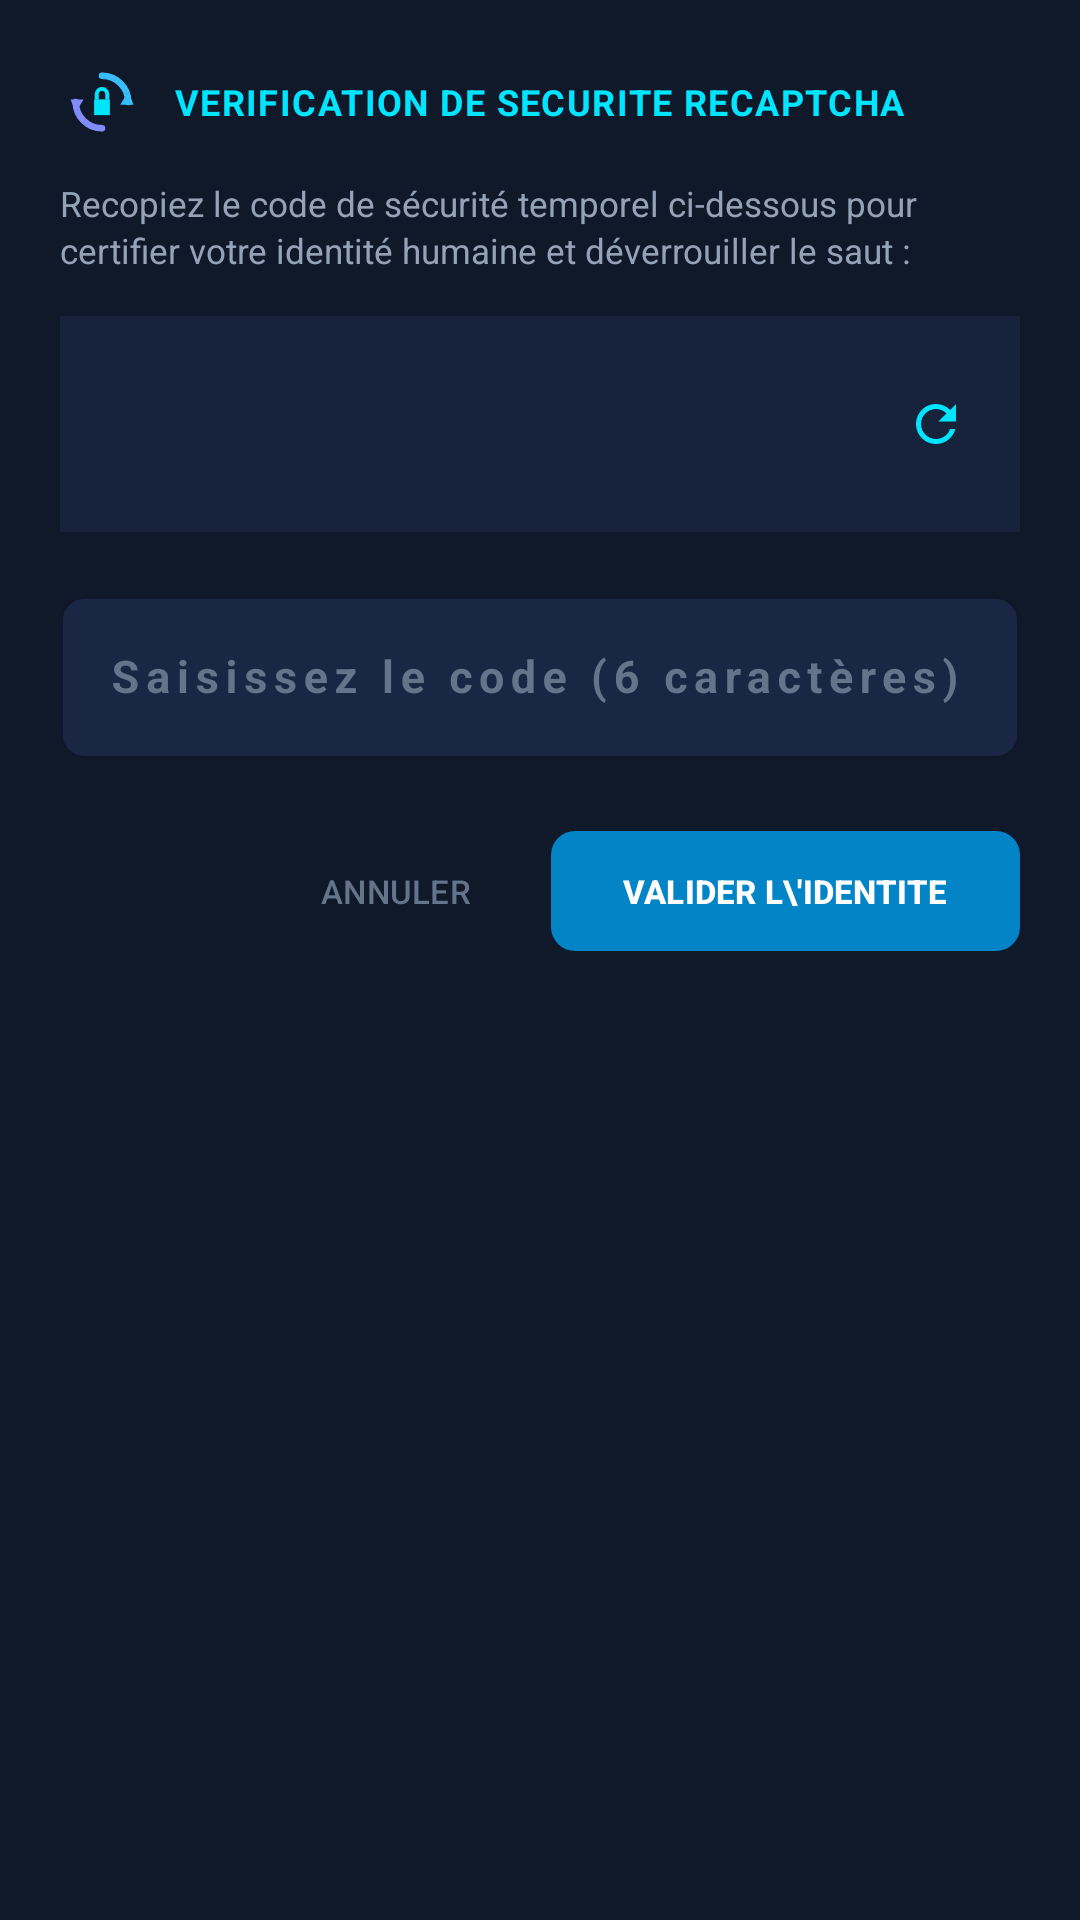

Screen size 1080x1920. Icon name, then its center in pixels as point (x, y):
refresh: point (936, 424)
